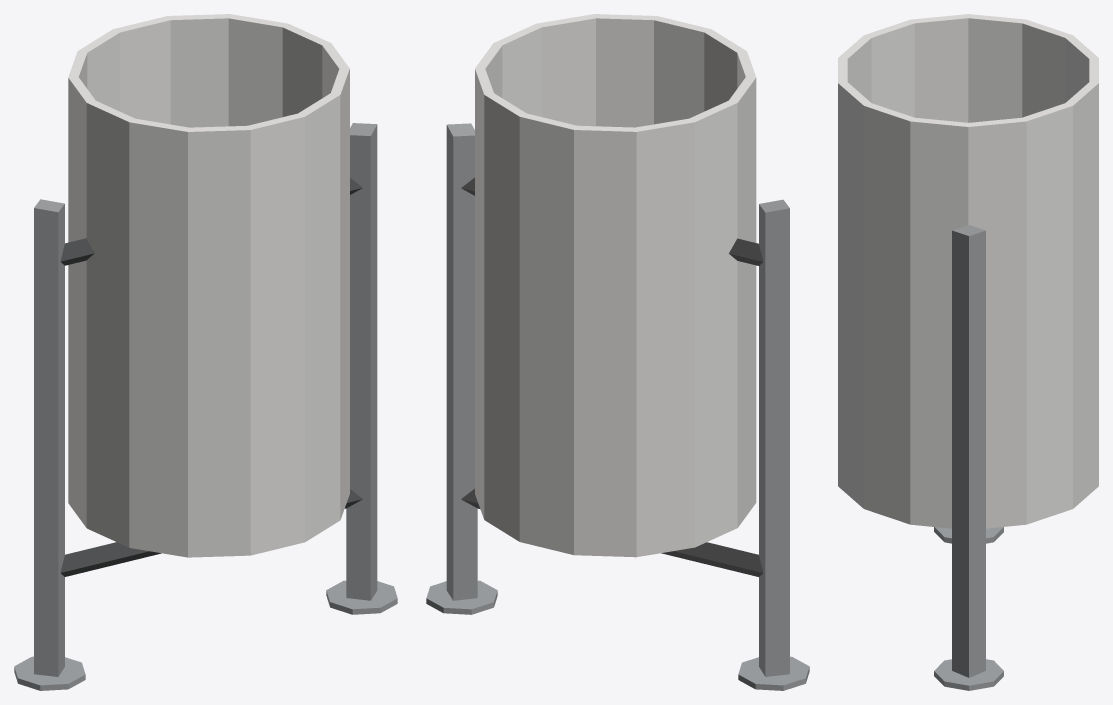
File: SM_trashbin_03.fbx
3 renders of one model, left to right at view 1: azimuth 30°, elevation 25°; view 2: azimuth 150°, elevation 25°; view 3: azimuth 270°, elevation 25°, orthographic. The views are drawn at different scales.
Parts seen in each view (by area): view 1: Sphere002; view 2: Sphere002; view 3: Sphere002.
Part boxes in pixels (x1,y1,x2,y2): Sphere002: [14, 14, 397, 690]; Sphere002: [426, 14, 809, 690]; Sphere002: [838, 14, 1098, 690].
Size of the model in its own units: 21.79 by 13.82 by 31.25.
